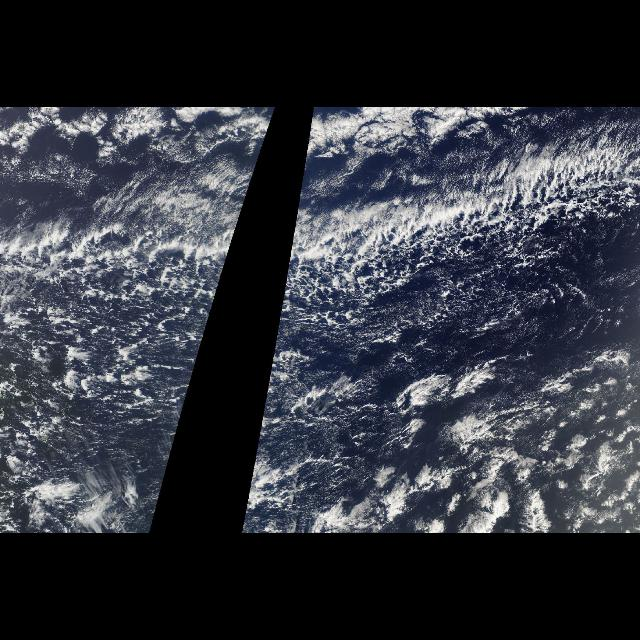Fish: (280, 152, 640, 302), (20, 158, 260, 302)
Gravel: (248, 269, 544, 511), (0, 268, 224, 466)
